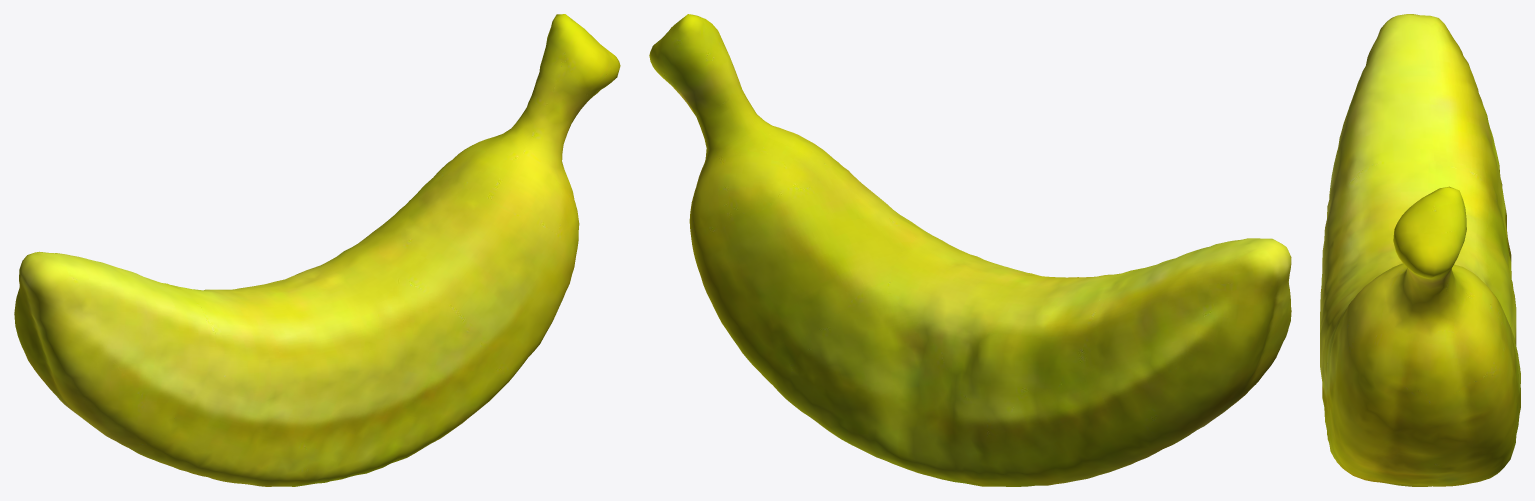
File: banana.glb
3 renders of one model, left to right at view 1: azimuth 30°, elevation 25°; view 2: azimuth 150°, elevation 25°; view 3: azimuth 270°, elevation 25°, orthographic. The views are drawn at different scales.
Parts seen in each view (by area): view 1: Mesh1; view 2: Mesh1; view 3: Mesh1.
Boxes of the visible parts, x1,y1,x2,y2 form: Mesh1: (14, 14, 620, 486); Mesh1: (649, 14, 1291, 486); Mesh1: (1320, 14, 1520, 486).
Bounding box in the file's own units: 1.2 × 0.714 × 0.3246.
1 material, 1 textured.
